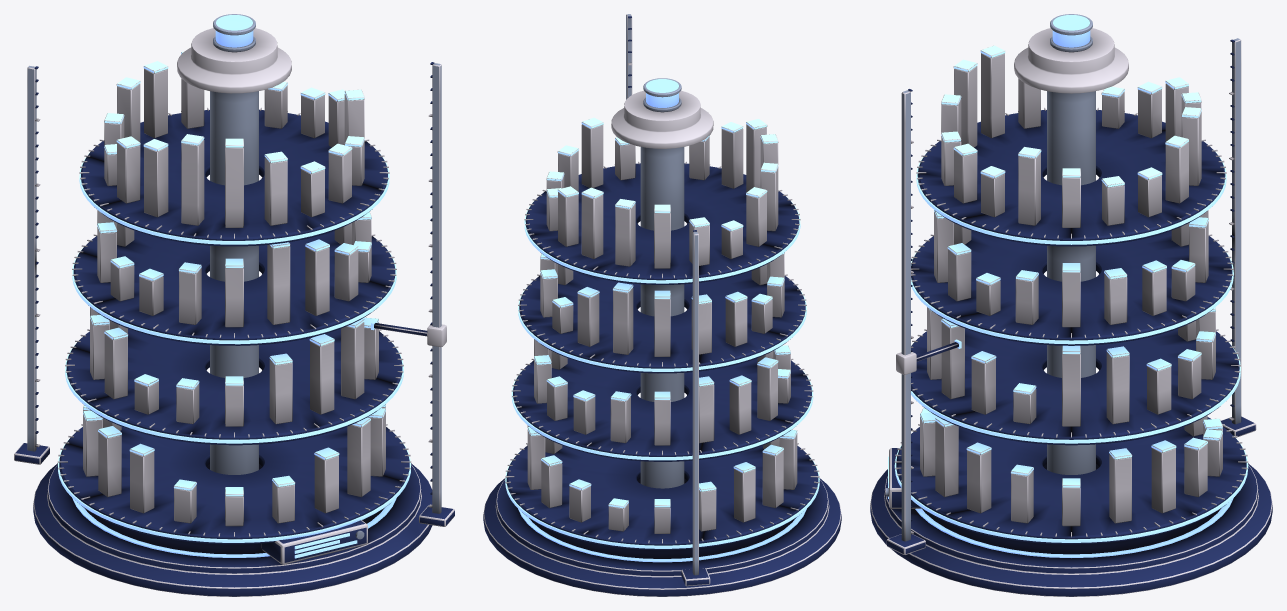
Rendered from data.glb.
3 renders of one model, left to right at view 1: azimuth 30°, elevation 25°; view 2: azimuth 150°, elevation 25°; view 3: azimuth 270°, elevation 25°, orthographic. The views are drawn at different scales.
Parts seen in each view (by area): view 1: data__barras_4, data__base, data__disco_1, data__disco_2, data__disco_3, data__disco_4, data__barras_3, data__barras_2, data__barras_1, data__columna, data__corona, data__regla_1 (+8 smaller); view 2: data__base, data__barras_4, data__disco_1, data__disco_2, data__disco_4, data__disco_3, data__barras_3, data__barras_2, data__barras_1, data__columna, data__corona, data__regla_2 (+6 smaller); view 3: data__base, data__barras_4, data__disco_1, data__disco_2, data__disco_3, data__disco_4, data__barras_1, data__barras_2, data__barras_3, data__columna, data__corona, data__regla_1 (+8 smaller).
Part boxes in pixels (x1,y1,x2,y2): data__barras_4: [104, 51, 364, 227]; data__base: [33, 463, 432, 596]; data__disco_1: [57, 424, 411, 544]; data__disco_2: [65, 328, 403, 445]; data__disco_3: [72, 230, 396, 345]; data__disco_4: [79, 107, 389, 246]; data__barras_3: [97, 210, 371, 327]; data__barras_2: [90, 307, 378, 426]; data__barras_1: [83, 404, 385, 526]; data__columna: [210, 91, 258, 474]; data__corona: [177, 28, 291, 93]; data__regla_1: [419, 62, 454, 526]; data__base: [483, 478, 841, 596]; data__barras_4: [546, 117, 778, 268]; data__disco_1: [505, 443, 819, 550]; data__disco_2: [511, 358, 813, 461]; data__disco_4: [524, 161, 800, 284]; data__disco_3: [518, 271, 806, 373]; data__barras_3: [540, 252, 784, 356]; data__barras_2: [534, 339, 790, 445]; data__barras_1: [527, 426, 797, 533]; data__columna: [640, 147, 684, 488]; data__corona: [611, 90, 713, 148]; data__regla_2: [681, 230, 710, 586]; data__base: [870, 463, 1272, 596]; data__barras_4: [941, 45, 1201, 227]; data__disco_1: [894, 417, 1248, 544]; data__disco_2: [911, 328, 1240, 445]; data__disco_3: [911, 230, 1233, 345]; data__disco_4: [916, 107, 1226, 246]; data__barras_1: [920, 408, 1222, 526]; data__barras_2: [927, 307, 1215, 426]; data__barras_3: [934, 210, 1208, 327]; data__columna: [1047, 91, 1095, 474]; data__corona: [1014, 28, 1128, 93]; data__regla_1: [886, 89, 925, 554].
Bounding box in the file's own units: 2.8 × 3.76 × 2.8.
